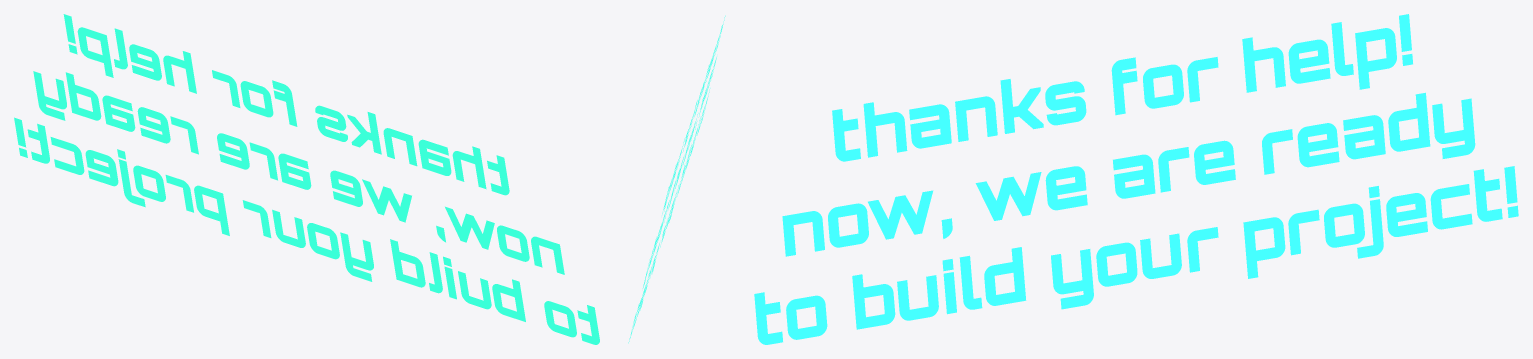
Rendered from note_engine.glb.
3 views of the same model, side by side, from view 1: azimuth 30°, elevation 25°; view 2: azimuth 150°, elevation 25°; view 3: azimuth 270°, elevation 25° (orthographic). The views are drawn at different scales.
Visible parts, largest first — view 1: Curve.037; view 2: Curve.037; view 3: Curve.037.
Boxes of the visible parts, x1,y1,x2,y2 form: Curve.037: (14, 14, 599, 344); Curve.037: (628, 15, 725, 343); Curve.037: (754, 14, 1518, 344).
Size of the model in its own units: 0.3172 by 0.24 by 0.7656.
